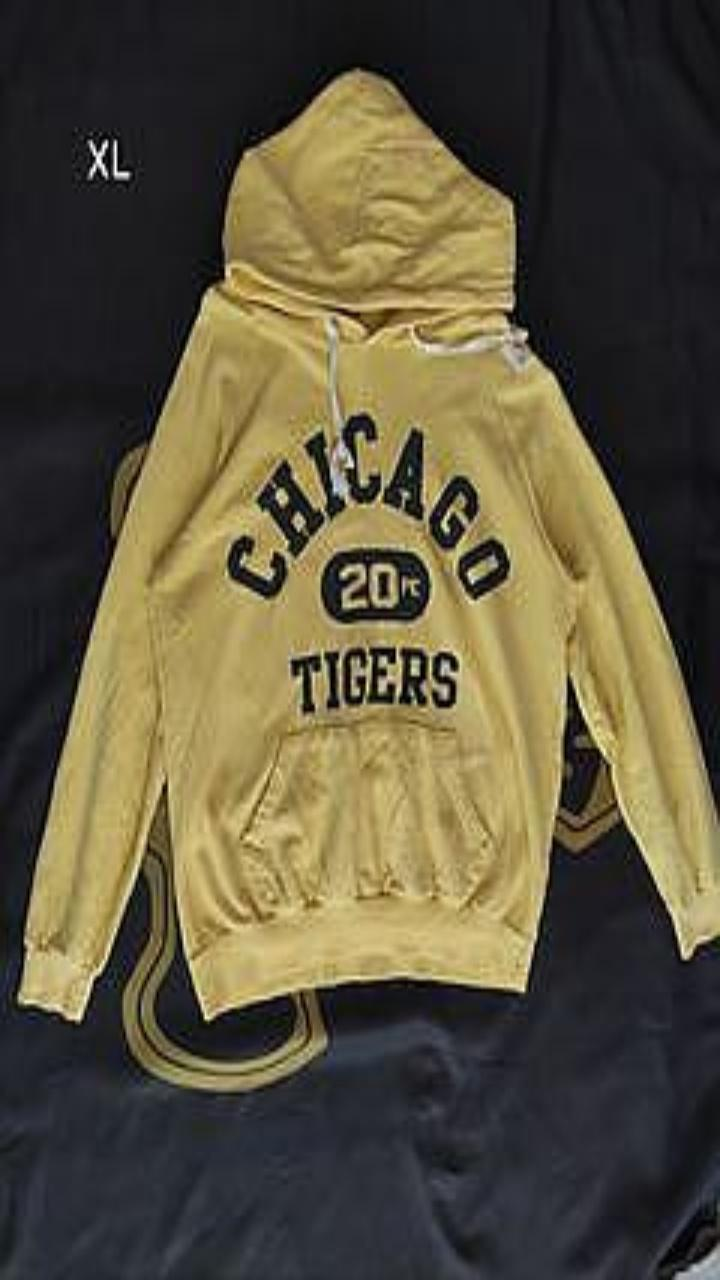Hoodie: (18, 69, 719, 1019)
